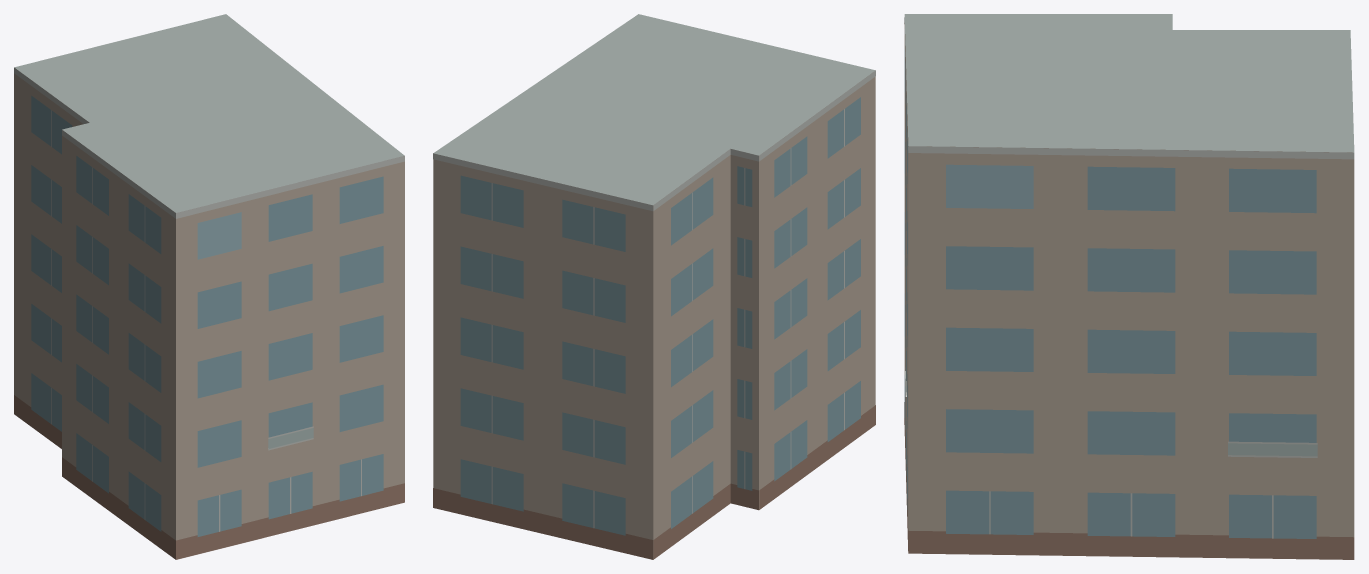
Rendered from survey-upis-33004219.glb.
3 views of the same model, side by side, from view 1: azimuth 30°, elevation 25°; view 2: azimuth 150°, elevation 25°; view 3: azimuth 270°, elevation 25° (orthographic). The views are drawn at different scales.
Visible parts, largest first — view 1: survey-upis-33004219.tmp; view 2: survey-upis-33004219.tmp; view 3: survey-upis-33004219.tmp.
Part boxes in pixels (x1,y1,x2,y2): survey-upis-33004219.tmp: [14, 14, 404, 559]; survey-upis-33004219.tmp: [433, 14, 875, 559]; survey-upis-33004219.tmp: [904, 14, 1354, 559].
Bounding box in the file's own units: 10.58 × 14.5 × 14.52.
